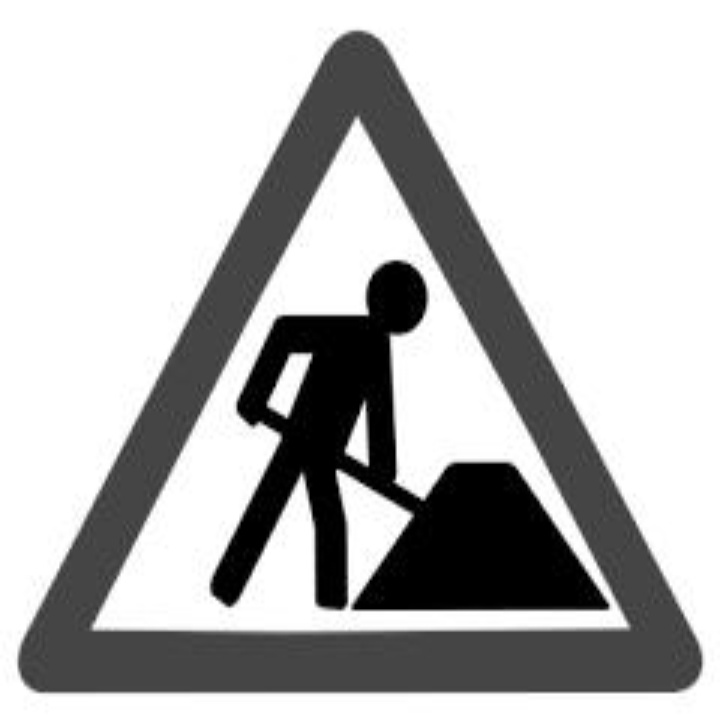const: (186, 205, 633, 616)
